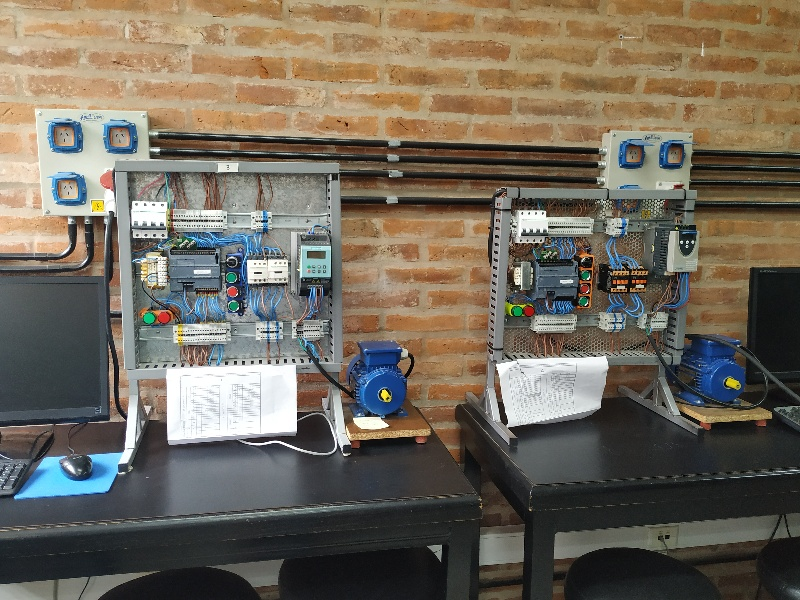Tablero 3: (123, 168, 339, 366)
Tablero 4: (505, 195, 700, 363)
